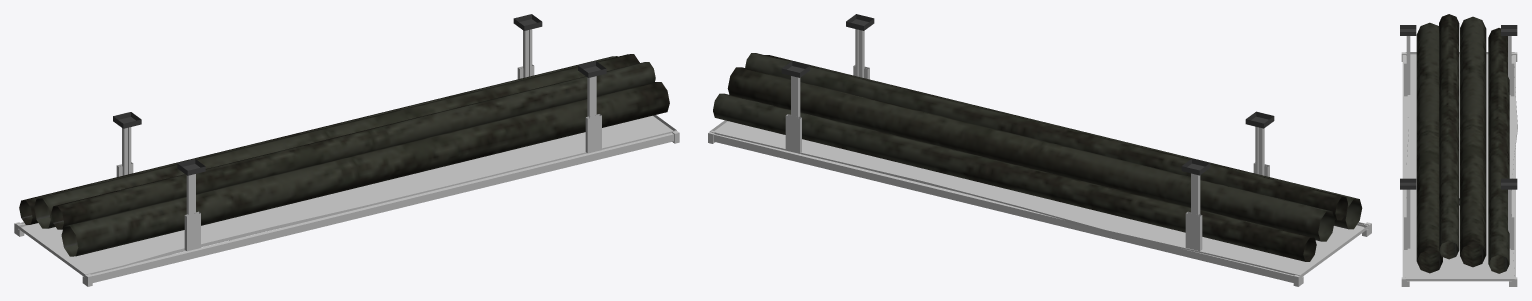
The model's file is ceiling_pipes_main_piece.fbx.
The picture shows the model from 3 angles, left to right: view 1: azimuth 30°, elevation 25°; view 2: azimuth 150°, elevation 25°; view 3: azimuth 270°, elevation 25°; orthographic projection. The views are drawn at different scales.
Visible parts, largest first — view 1: ceiling_pipes_main_piece; view 2: ceiling_pipes_main_piece; view 3: ceiling_pipes_main_piece.
Boxes of the visible parts, x1,y1,x2,y2 form: ceiling_pipes_main_piece: (14,14,679,286); ceiling_pipes_main_piece: (708,14,1371,286); ceiling_pipes_main_piece: (1400,14,1517,286).
Size of the model in its own units: 300 by 55.06 by 65.85.
